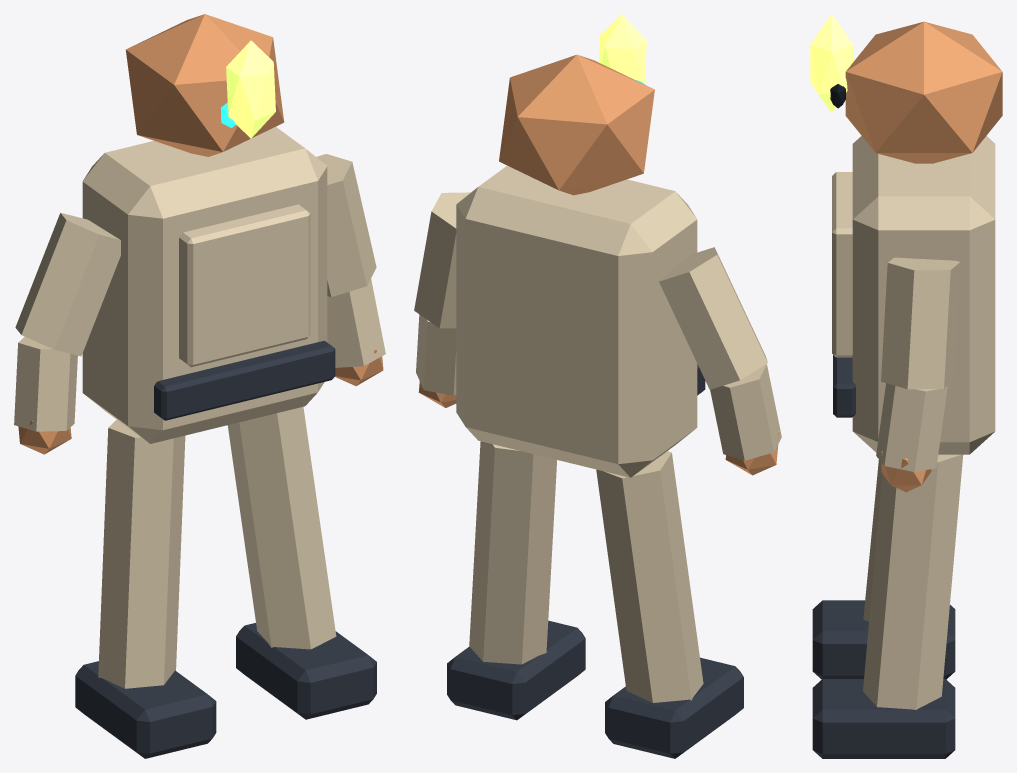
Rendered from npcs_020_seed11.glb.
3 renders of one model, left to right at view 1: azimuth 30°, elevation 25°; view 2: azimuth 150°, elevation 25°; view 3: azimuth 270°, elevation 25°, orthographic.
Visible parts, largest first — view 1: npcs_020_seed11; view 2: npcs_020_seed11; view 3: npcs_020_seed11.
Part boxes in pixels (<box>): npcs_020_seed11: <box>14,14,385,758</box>; npcs_020_seed11: <box>414,14,781,758</box>; npcs_020_seed11: <box>810,14,1002,758</box>.
Bounding box in the file's own units: 0.9462 × 1.71 × 0.4317.
